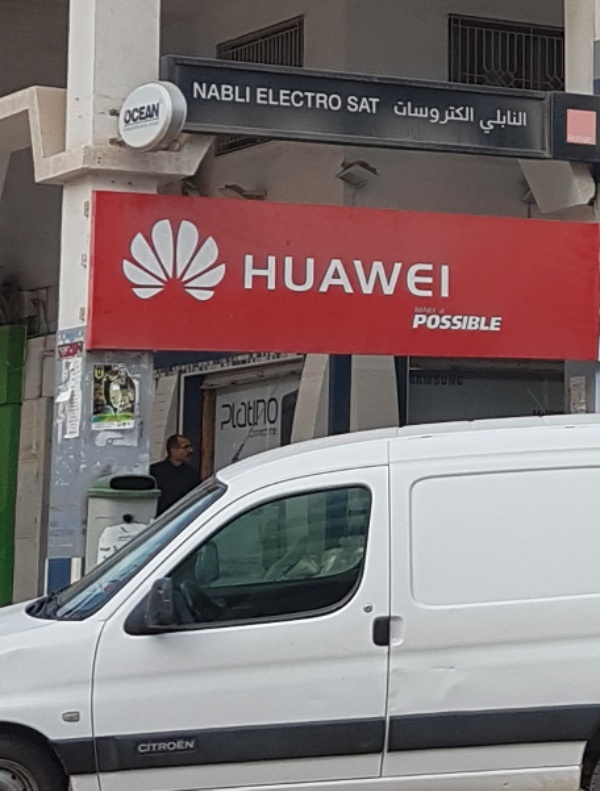text: (433, 253, 449, 298), (257, 253, 272, 298), (273, 253, 288, 298), (289, 253, 304, 298), (305, 253, 320, 298), (321, 253, 336, 298), (337, 253, 352, 298), (353, 253, 368, 298), (369, 253, 384, 298), (385, 253, 400, 298), (401, 253, 416, 298), (417, 253, 432, 298), (225, 395, 240, 432), (241, 395, 256, 432), (257, 395, 272, 432), (245, 253, 256, 298), (481, 104, 496, 136), (497, 104, 512, 136), (513, 104, 528, 136), (401, 99, 416, 128), (417, 99, 432, 128), (433, 99, 448, 128), (449, 99, 464, 128), (145, 101, 161, 126), (257, 86, 272, 112), (273, 86, 288, 112), (289, 86, 304, 112), (305, 86, 320, 112), (321, 86, 336, 112), (465, 99, 478, 128), (129, 101, 144, 126), (193, 81, 208, 104), (209, 81, 224, 104), (225, 81, 240, 104), (353, 94, 368, 115), (273, 395, 281, 432), (369, 94, 382, 115), (417, 314, 432, 332), (433, 314, 448, 332), (449, 314, 464, 332), (465, 314, 480, 332), (481, 314, 496, 332), (241, 81, 252, 104), (145, 739, 160, 755), (161, 739, 176, 755), (177, 739, 192, 755), (417, 374, 432, 387), (433, 374, 448, 387), (449, 374, 464, 387), (337, 86, 344, 112), (394, 99, 400, 128), (220, 395, 224, 432), (123, 101, 128, 126), (137, 739, 144, 755), (497, 314, 503, 332), (347, 94, 352, 115), (408, 374, 416, 387), (477, 104, 480, 136), (414, 314, 416, 332), (193, 739, 195, 755), (465, 374, 466, 387)
